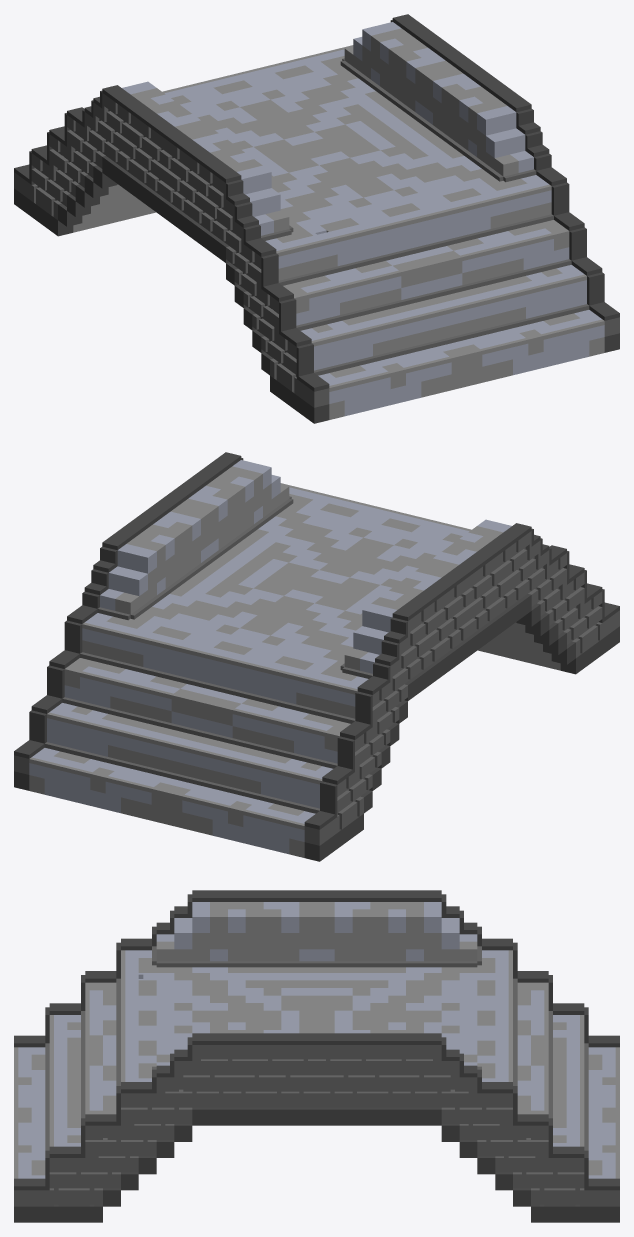
File: Medieval Assets-273-Decoration - Bridge.obj
3 views of the same model, one above another, from view 1: azimuth 30°, elevation 25°; view 2: azimuth 150°, elevation 25°; view 3: azimuth 270°, elevation 25° (orthographic).
Visible parts, largest first — view 1: Decoration - Bridge; view 2: Decoration - Bridge; view 3: Decoration - Bridge.
Part boxes in pixels (x1,y1,x2,y2): Decoration - Bridge: (14, 14, 619, 423); Decoration - Bridge: (14, 452, 619, 861); Decoration - Bridge: (14, 890, 619, 1222).
Size of the model in its own units: 8 by 4.5 by 13.6.
1 material, 1 textured.
